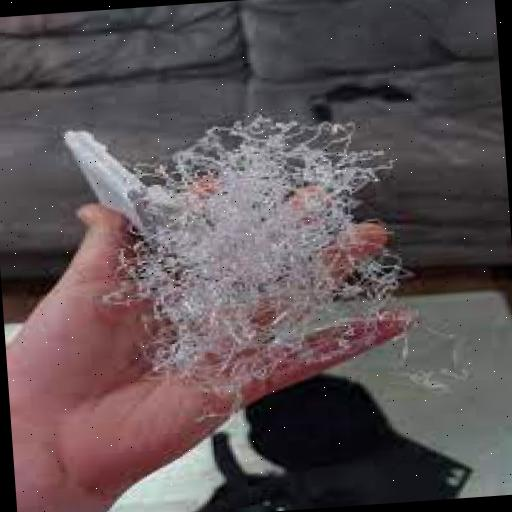spaghetti: (132, 114, 408, 414)
